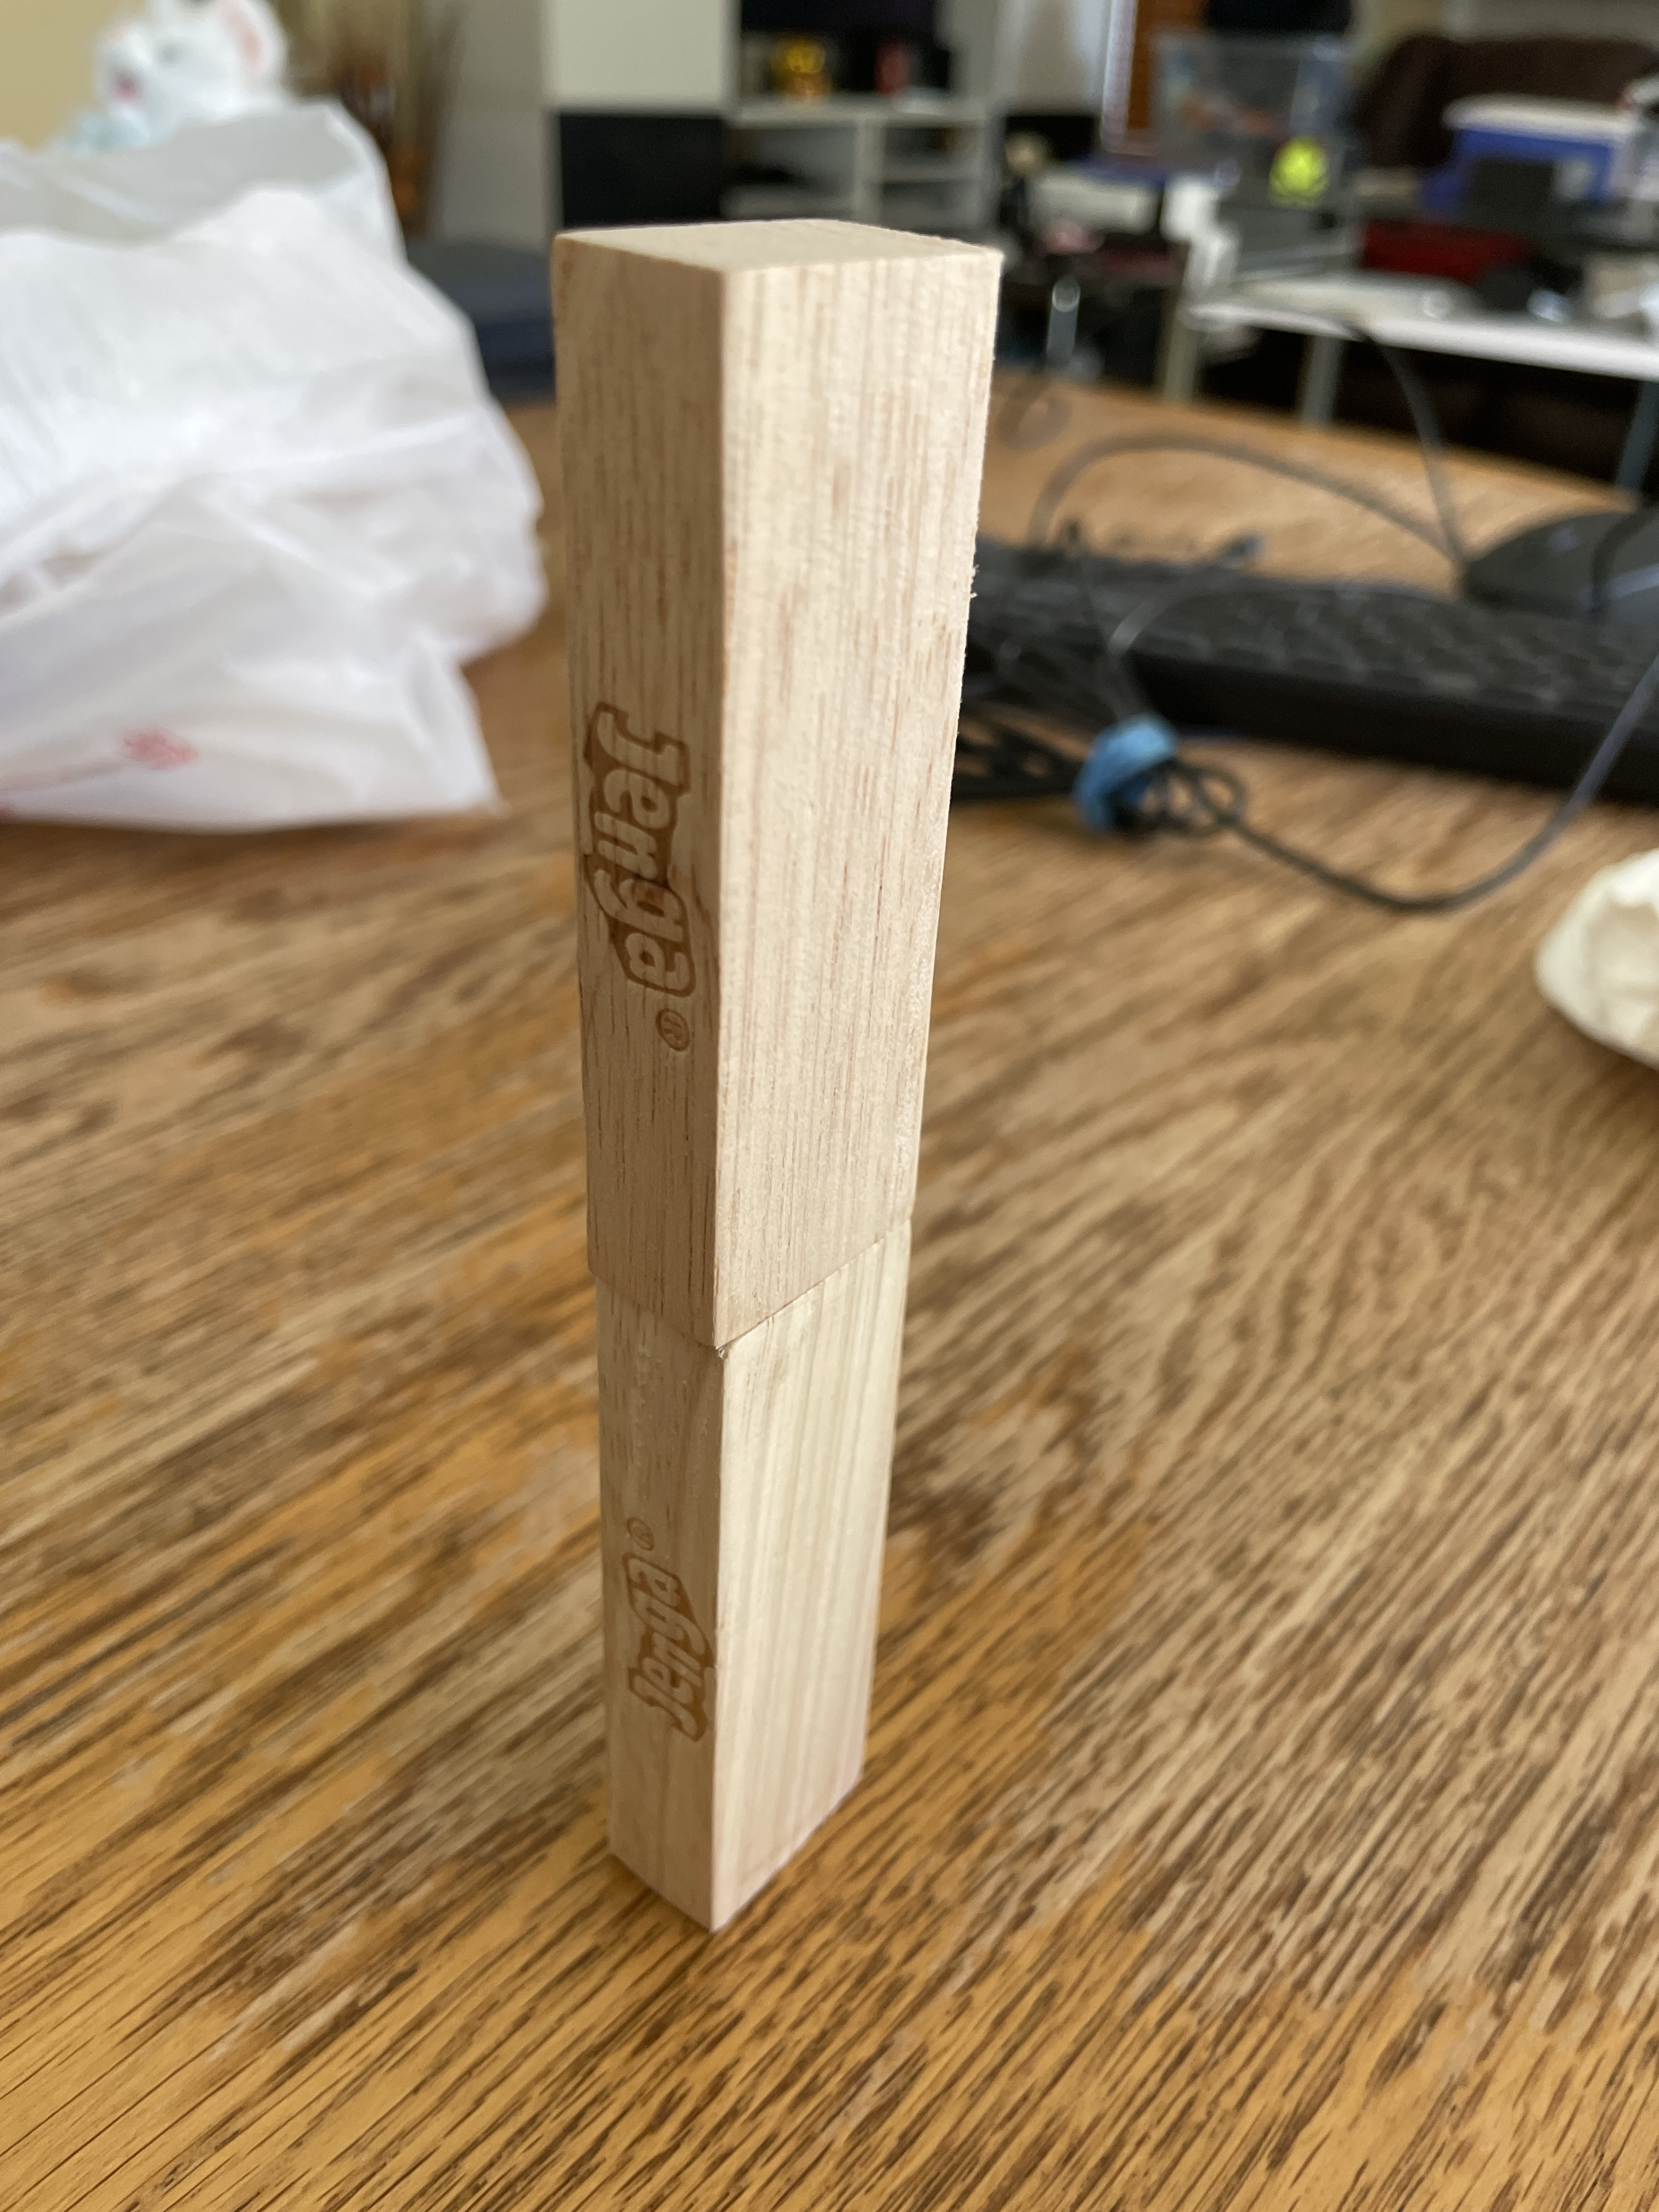jenga: (521, 209, 953, 1275), (526, 1291, 953, 1918)
